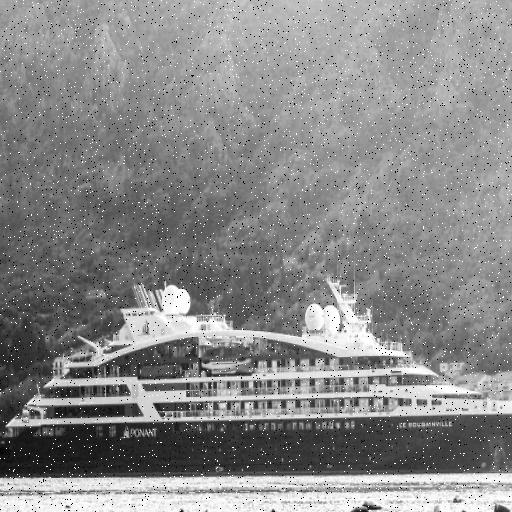cruises: (1, 259, 512, 486)
